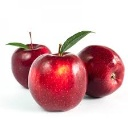apple: (9, 40, 56, 92)
